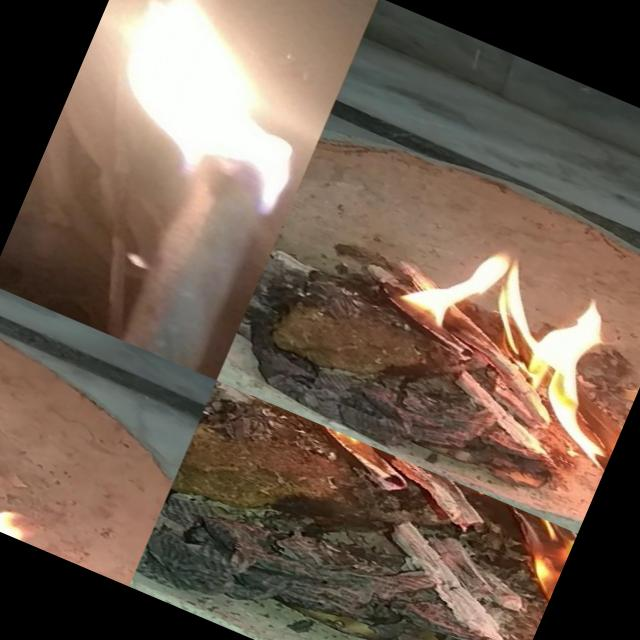fire: (198, 398, 577, 640), (334, 210, 640, 496), (58, 0, 363, 216), (0, 368, 120, 561)
